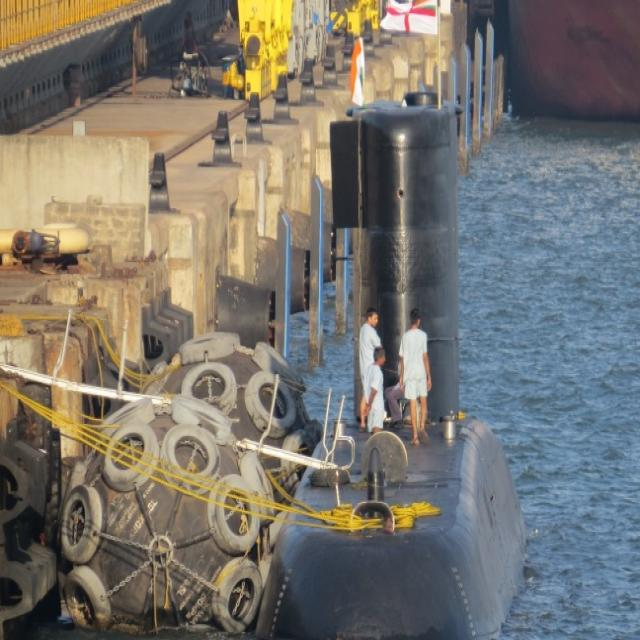submarine: (286, 78, 538, 640)
